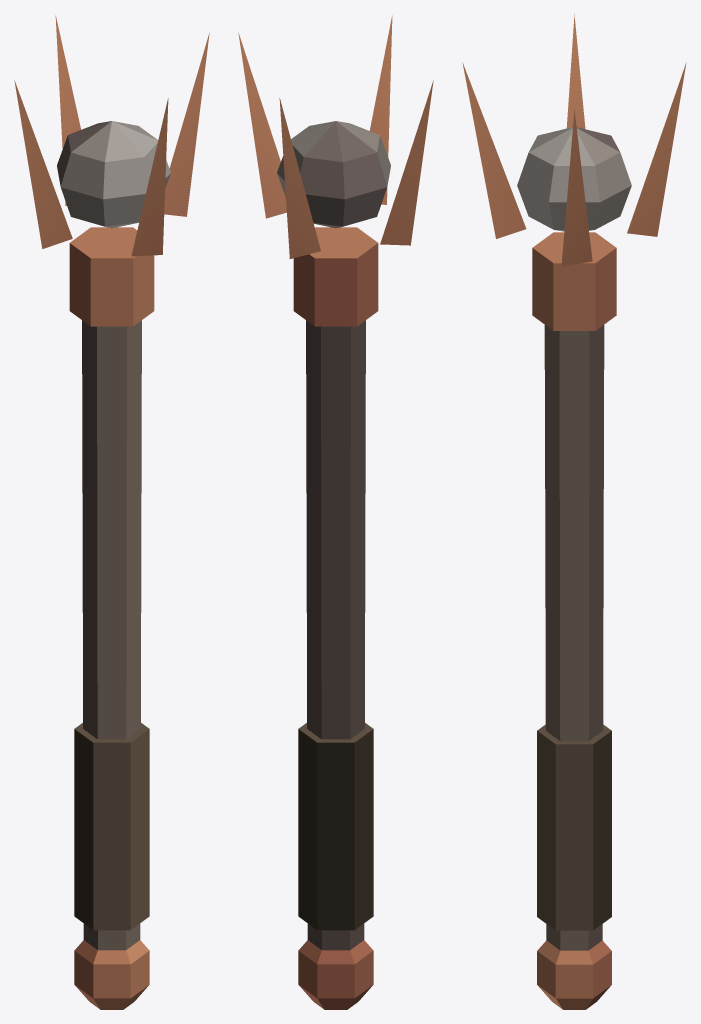
File: mage_scepter_0.gltf
3 views of the same model, side by side, from view 1: azimuth 30°, elevation 25°; view 2: azimuth 150°, elevation 25°; view 3: azimuth 270°, elevation 25° (orthographic).
Visible parts, largest first — view 1: mage_scepter_0; view 2: mage_scepter_0; view 3: mage_scepter_0.
Part boxes in pixels (box(x1,y1,x2,y2)): mage_scepter_0: box(14, 15, 209, 1009); mage_scepter_0: box(238, 15, 433, 1009); mage_scepter_0: box(462, 14, 686, 1009).
Bounding box in the file's own units: 0.24 × 1.11 × 0.24.
1 material, 1 textured.
